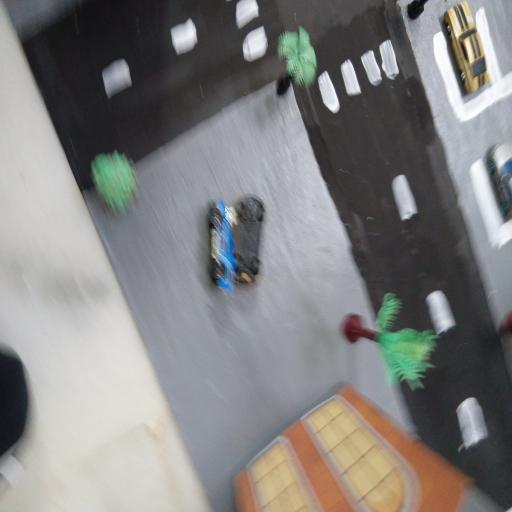car crash: (206, 191, 267, 299)
